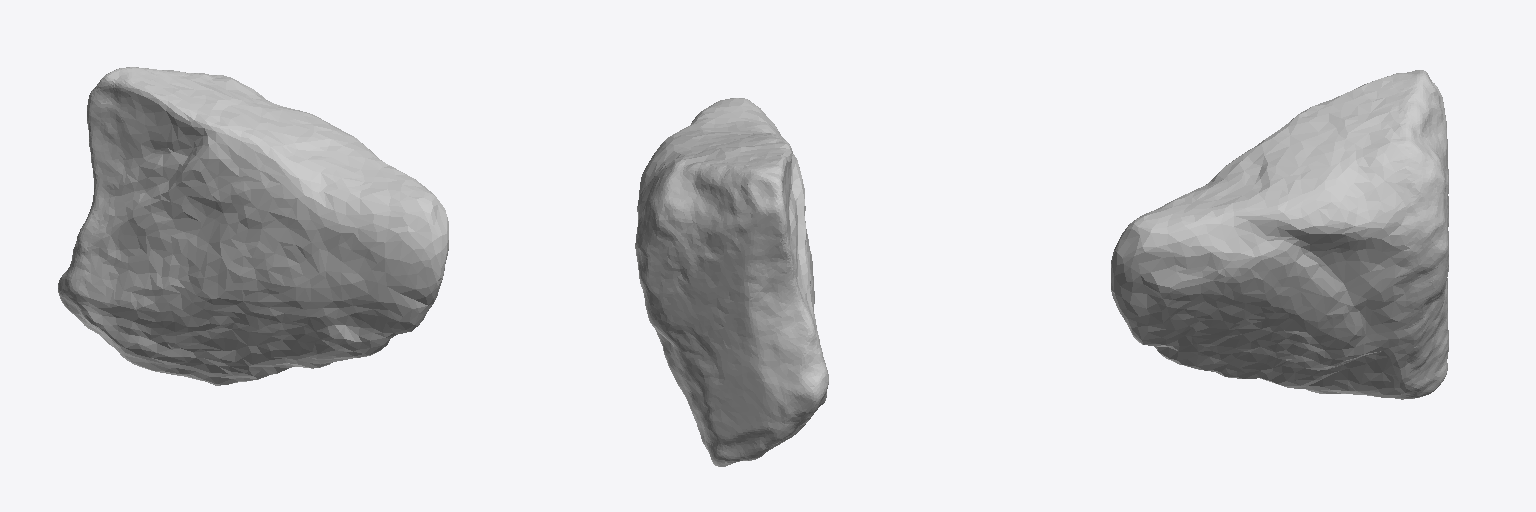
Rendered from sp2_com.obj.
3 renders of one model, left to right at view 1: azimuth 30°, elevation 25°; view 2: azimuth 150°, elevation 25°; view 3: azimuth 270°, elevation 25°, orthographic.
Parts seen in each view (by area): view 1: FinalOrientedMesh_Spec2.obj; view 2: FinalOrientedMesh_Spec2.obj; view 3: FinalOrientedMesh_Spec2.obj.
Boxes of the visible parts, box(x1,y1,x2,y2) form: FinalOrientedMesh_Spec2.obj: box(58, 67, 448, 385); FinalOrientedMesh_Spec2.obj: box(635, 98, 828, 466); FinalOrientedMesh_Spec2.obj: box(1111, 70, 1448, 399).
Size of the model in its own units: 6659 by 7691 by 7806.